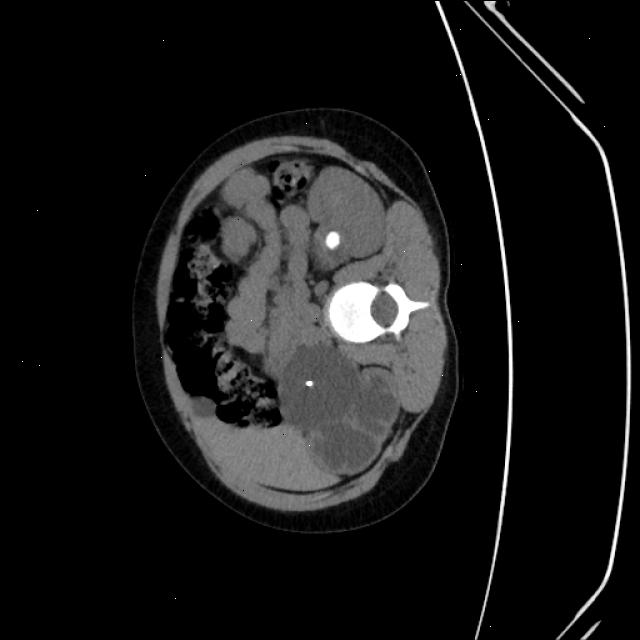kidneystone: (330, 230, 339, 247), (305, 379, 314, 388)
